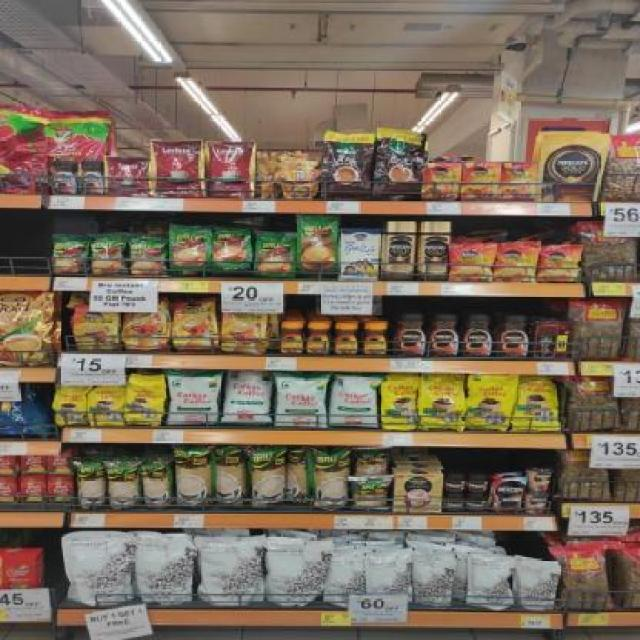Coffee: (221, 298, 267, 354), (124, 298, 170, 351), (174, 298, 218, 353), (73, 304, 119, 350), (385, 220, 417, 280), (421, 222, 450, 282), (451, 244, 492, 281), (497, 244, 535, 282), (542, 244, 580, 282), (497, 313, 529, 358), (393, 313, 425, 356), (429, 313, 458, 356), (463, 314, 492, 357), (493, 477, 524, 512), (52, 159, 78, 195), (79, 159, 104, 195), (278, 322, 304, 355), (334, 322, 358, 356), (364, 322, 388, 355), (308, 323, 330, 354), (445, 473, 466, 492), (467, 494, 488, 512), (470, 473, 487, 492), (446, 494, 463, 512)
